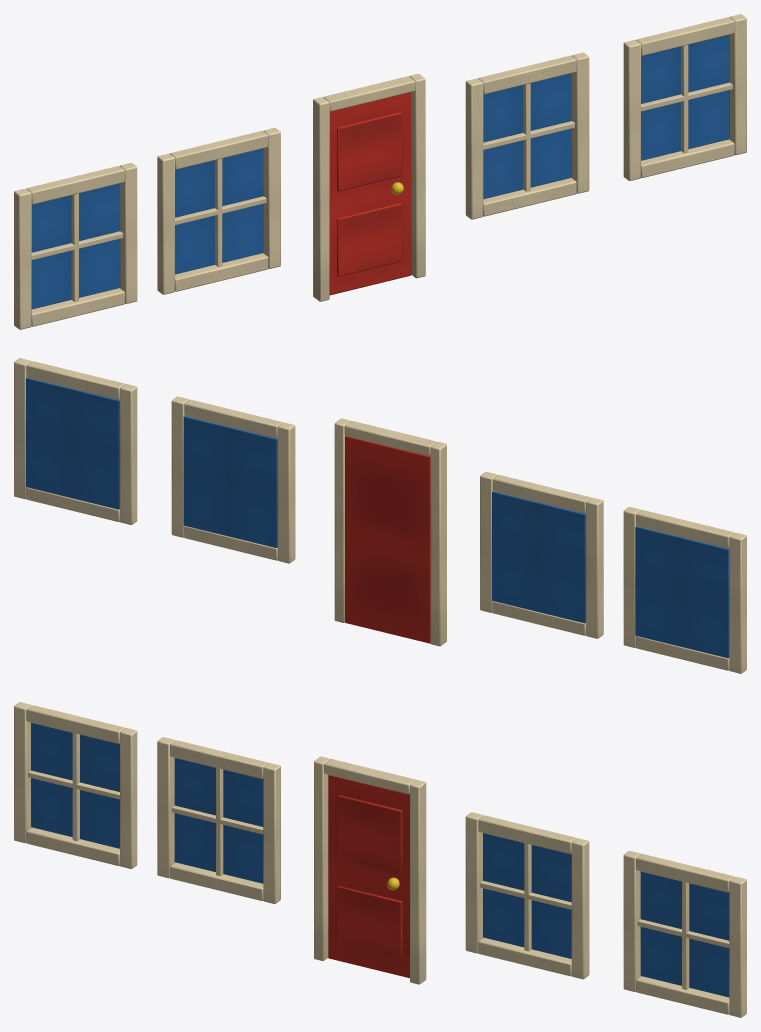
The model's file is 3-windows-and-door.fbx.
3 views of the same model, one above another, from view 1: azimuth 30°, elevation 25°; view 2: azimuth 150°, elevation 25°; view 3: azimuth 330°, elevation 25° (orthographic).
Visible parts, largest first — view 1: windows-and-door; view 2: windows-and-door; view 3: windows-and-door.
Part boxes in pixels (x1,y1,x2,y2): windows-and-door: (14, 14, 746, 329); windows-and-door: (14, 358, 746, 673); windows-and-door: (14, 702, 746, 1017).
Size of the model in its own units: 10150 by 2640 by 228.
Materials: 1 (1 with a texture image).
